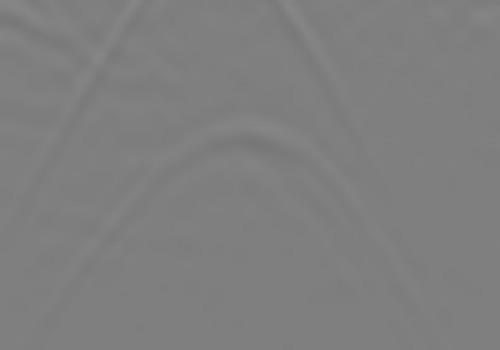Hyperbola: (30, 97, 427, 319)
